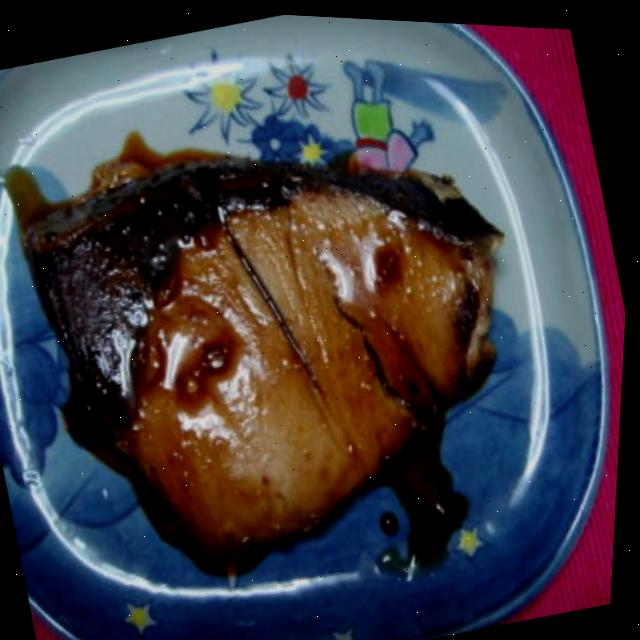熟制海鲜: (3, 61, 624, 612)
